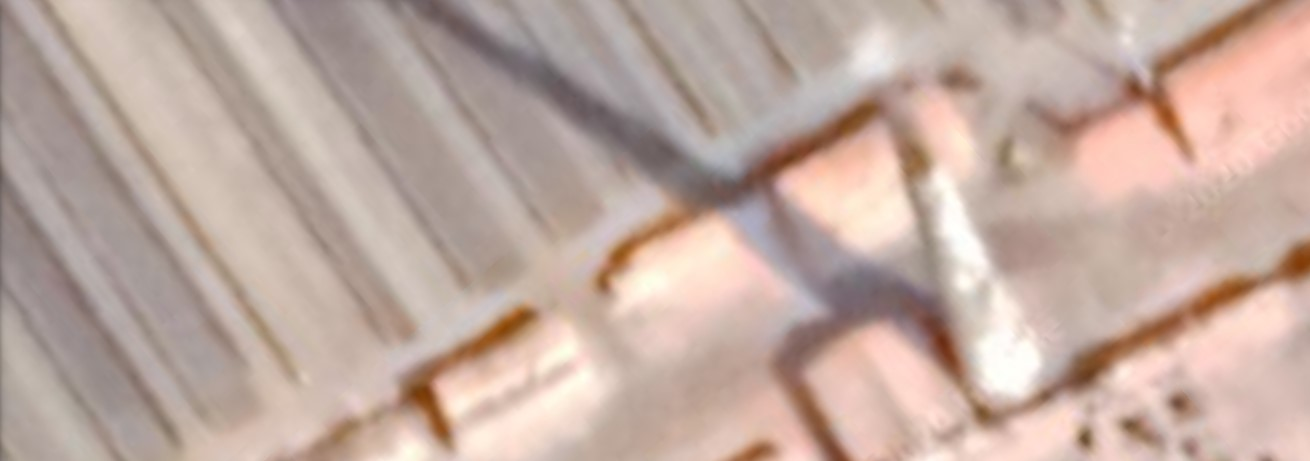kiln: (372, 1, 1233, 458)
